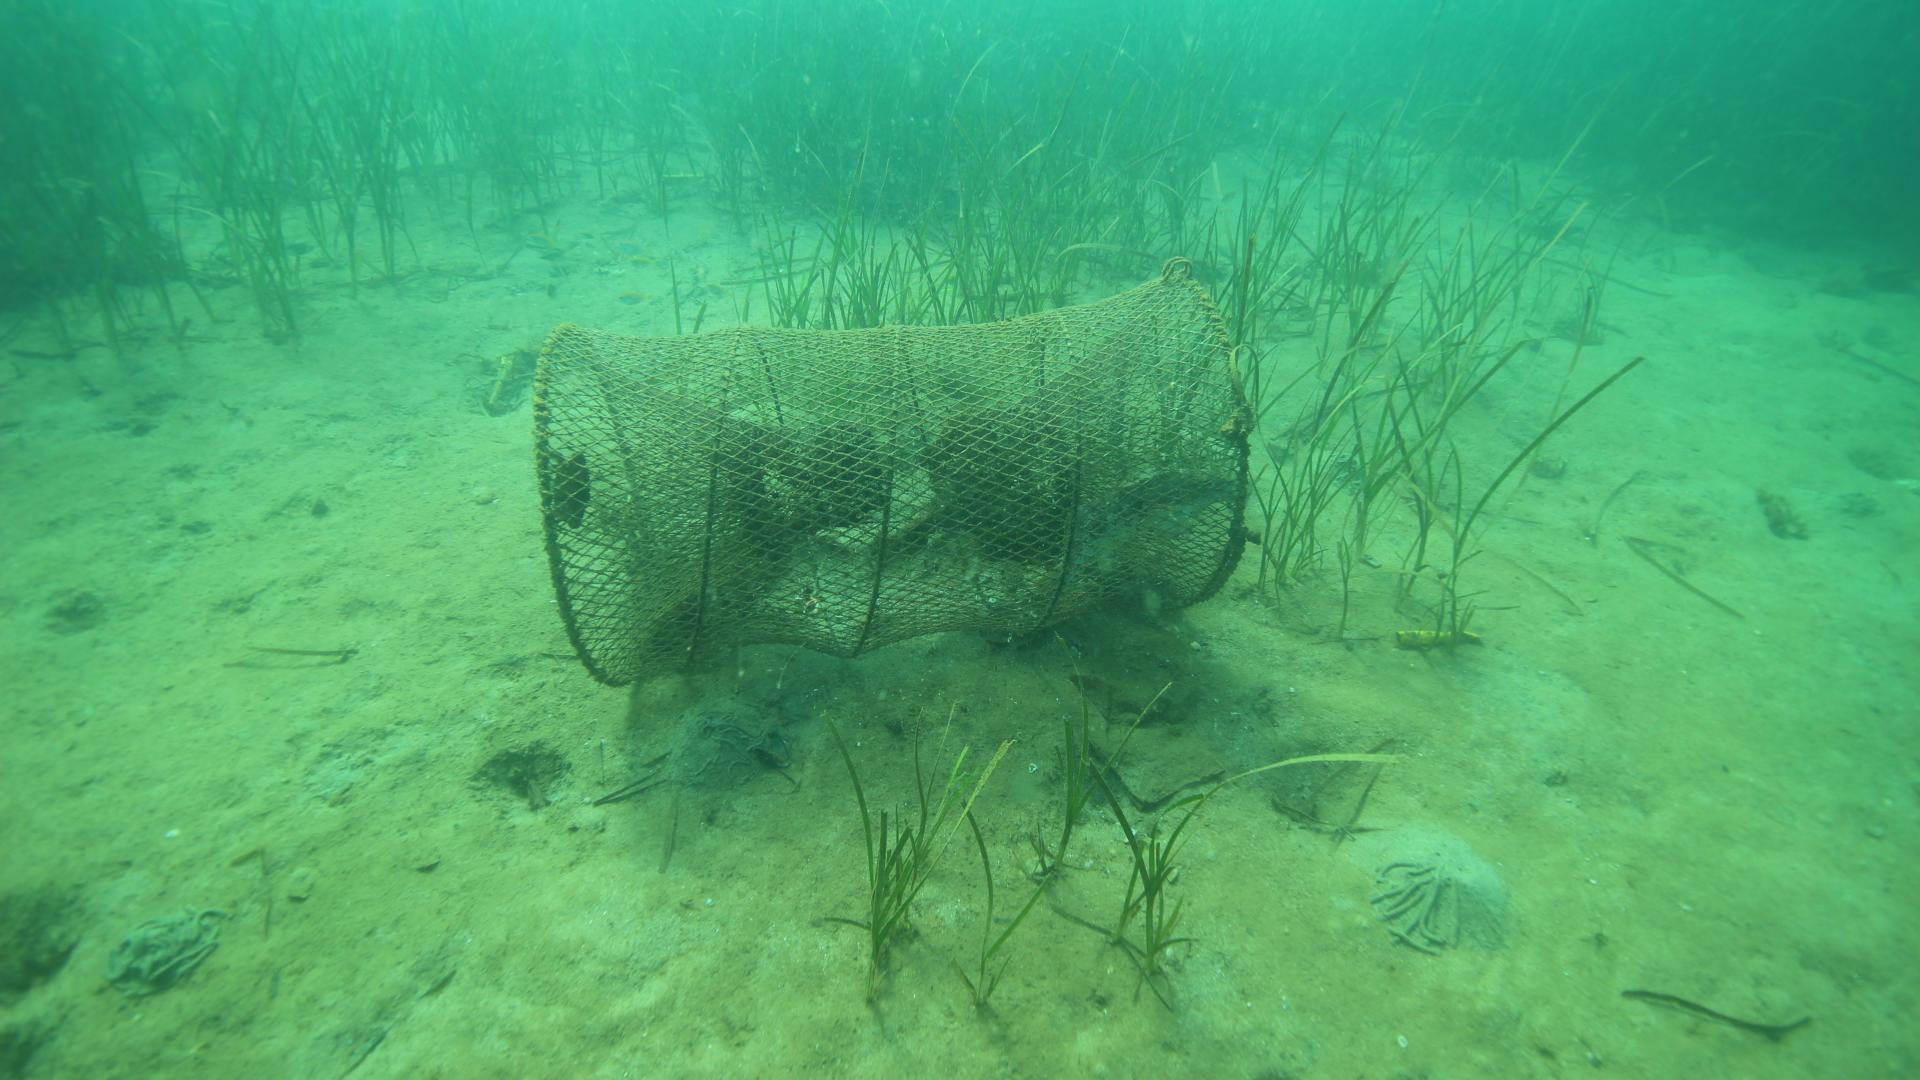spring fish trap: (531, 276, 1257, 688)
